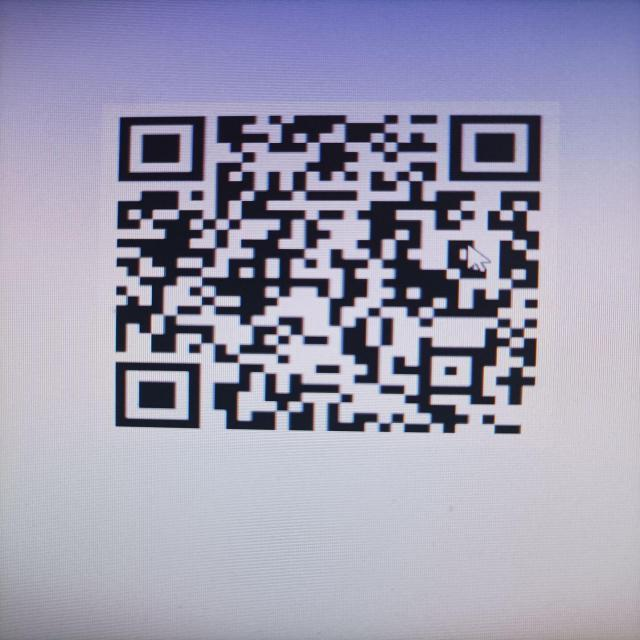qr_code: (115, 113, 542, 434)
